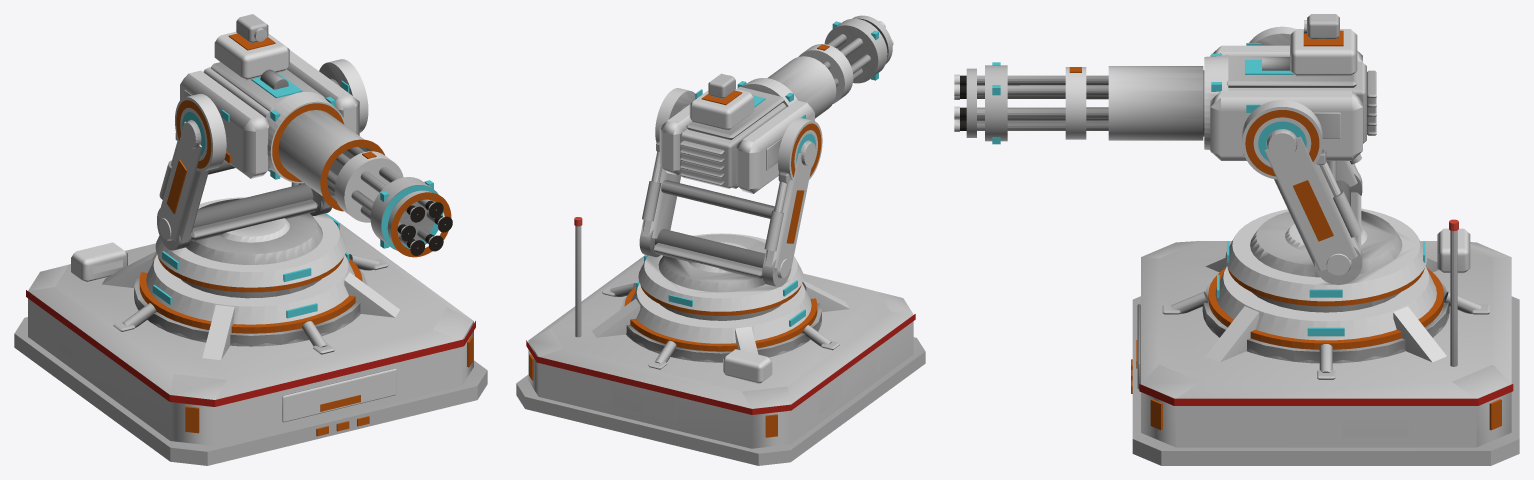
File: gatling_2.glb
3 renders of one model, left to right at view 1: azimuth 30°, elevation 25°; view 2: azimuth 150°, elevation 25°; view 3: azimuth 270°, elevation 25°, orthographic. The views are drawn at different scales.
Parts seen in each view (by area): view 1: Rumpf, Waffe, Drehring, Buendel, Arm; view 2: Rumpf, Waffe, Drehring, Arm, Buendel; view 3: Rumpf, Waffe, Arm, Drehring, Buendel.
Part boxes in pixels (x1=…): Rumpf: x1=14, y1=182, x2=487, y2=465; Waffe: x1=180, y1=14, x2=384, y2=211; Drehring: x1=155, y1=183, x2=346, y2=292; Buendel: x1=327, y1=146, x2=452, y2=257; Arm: x1=157, y1=59, x2=368, y2=250; Rumpf: x1=516, y1=217, x2=925, y2=465; Waffe: x1=659, y1=56, x2=836, y2=193; Drehring: x1=638, y1=229, x2=803, y2=315; Arm: x1=639, y1=88, x2=822, y2=287; Buendel: x1=798, y1=15, x2=893, y2=103; Rumpf: x1=1131, y1=219, x2=1519, y2=465; Waffe: x1=1108, y1=14, x2=1376, y2=160; Arm: x1=1242, y1=26, x2=1362, y2=284; Drehring: x1=1225, y1=180, x2=1426, y2=306; Buendel: x1=954, y1=62, x2=1204, y2=144.
Size of the model in its own units: 0.94 by 0.9824 by 1.37.
